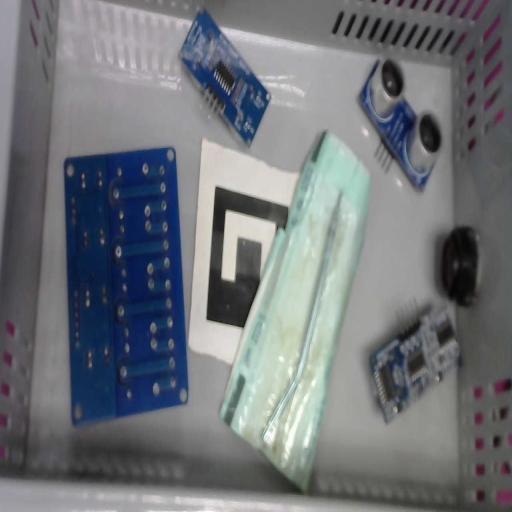QR: (188, 138, 300, 364)
relay_module: (64, 145, 188, 427)
triple_syringe: (219, 130, 371, 493)
ultrasonic_hc-sr04: (178, 6, 271, 148), (366, 297, 462, 425), (357, 56, 444, 194)
